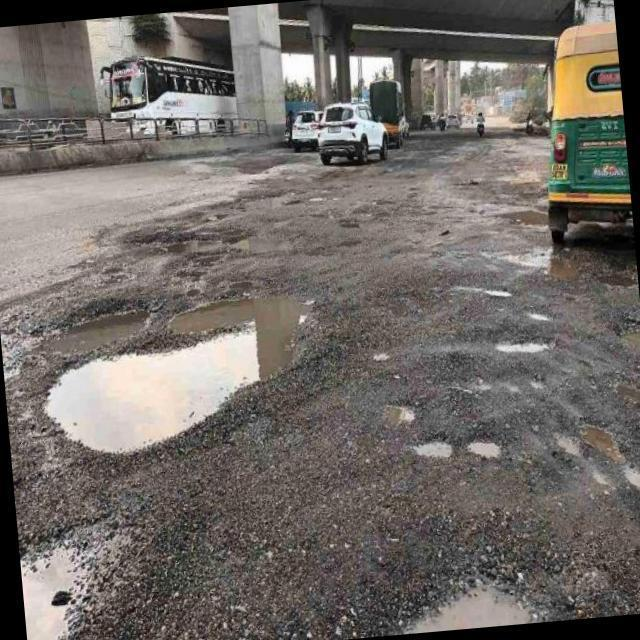Pothole: (41, 298, 297, 454), (60, 313, 147, 353)
